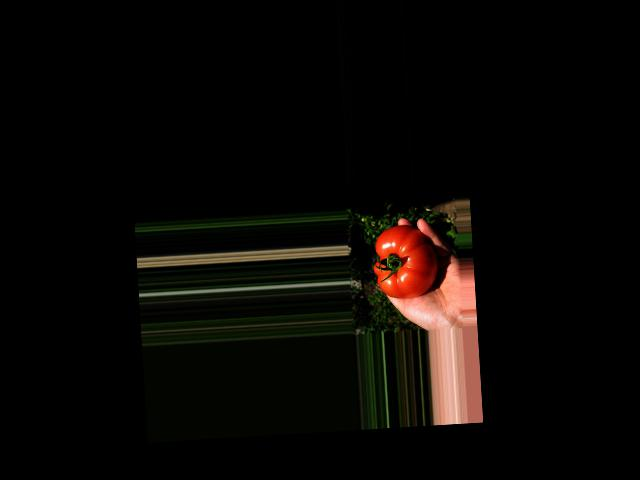tomato: (371, 222, 439, 299)
